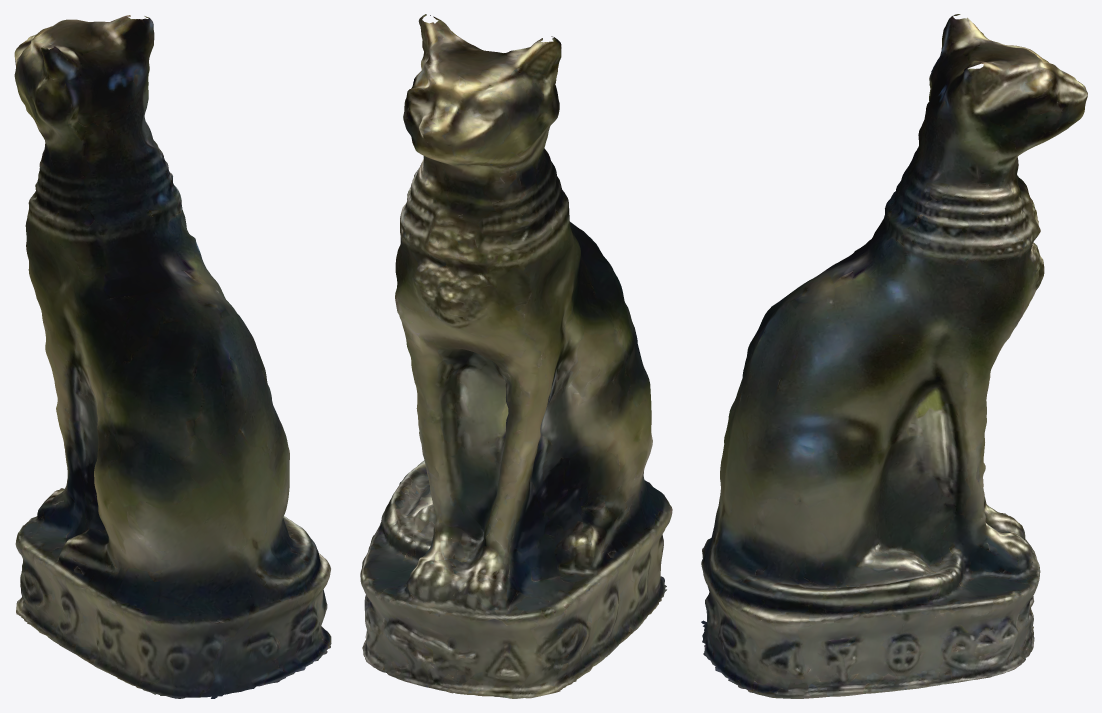
Rendered from egyptian_cat_figurine-transformed.glb.
The picture shows the model from 3 angles, left to right: view 1: azimuth 30°, elevation 25°; view 2: azimuth 150°, elevation 25°; view 3: azimuth 270°, elevation 25°; orthographic projection. The views are drawn at different scales.
Parts seen in each view (by area): view 1: Object_4; view 2: Object_4; view 3: Object_4.
Part boxes in pixels (box(x1,y1,x2,y2)): Object_4: box(14, 15, 331, 698); Object_4: box(360, 14, 672, 698); Object_4: box(701, 14, 1087, 698).
Bounding box in the file's own units: 0.0568 × 0.1413 × 0.0847.
1 material, 1 textured.
